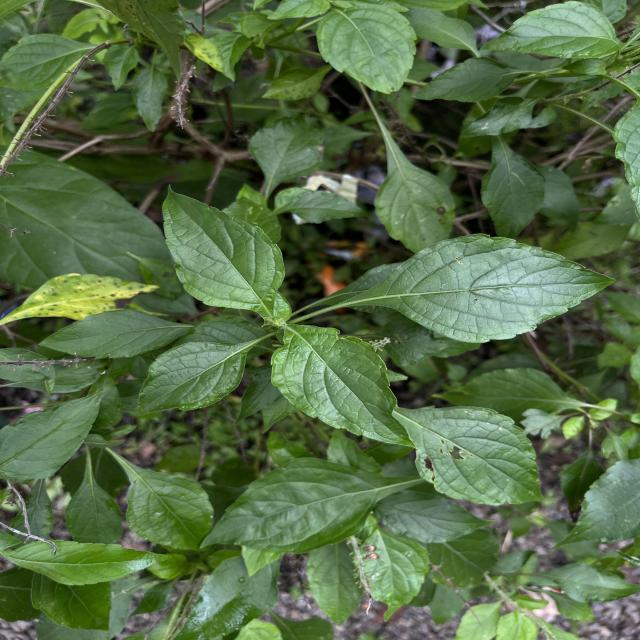Ocimum gratissimum: (339, 230, 619, 346), (196, 454, 418, 560), (268, 320, 425, 454), (160, 182, 290, 320), (392, 404, 550, 507), (134, 332, 262, 418), (0, 384, 111, 483), (314, 2, 420, 97), (476, 0, 629, 64), (2, 536, 184, 588), (36, 308, 201, 362)
